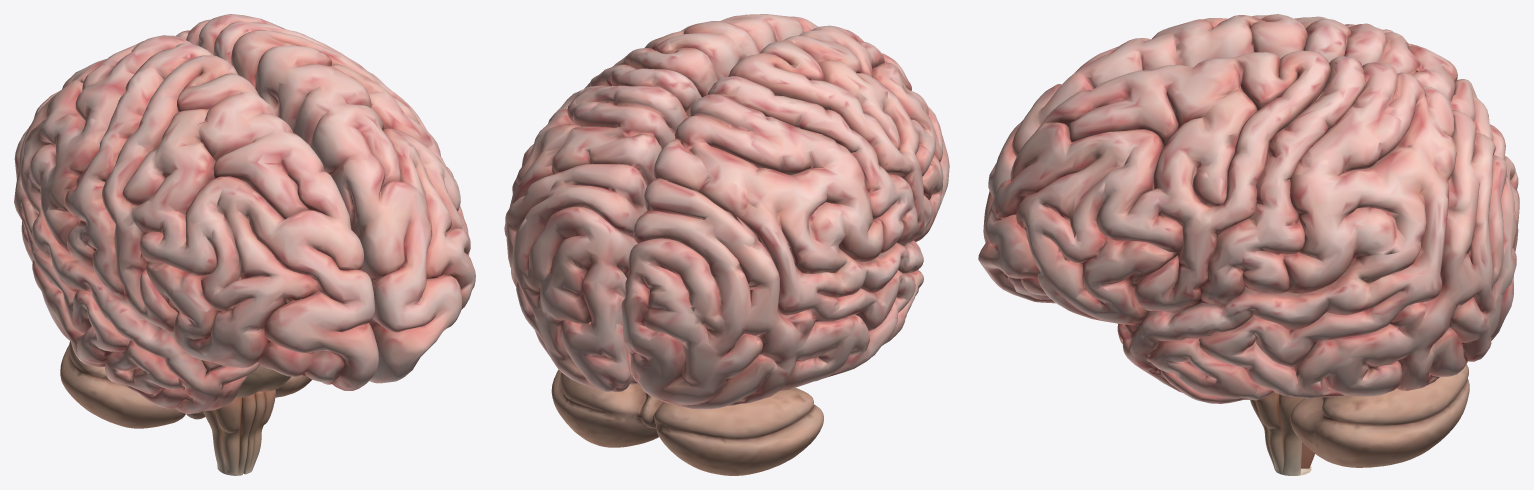
Rendered from brain_cancer.glb.
3 renders of one model, left to right at view 1: azimuth 30°, elevation 25°; view 2: azimuth 150°, elevation 25°; view 3: azimuth 270°, elevation 25°, orthographic. The views are drawn at different scales.
Visible parts, largest first — view 1: Frontal Lobe (Right) [S05229], Frontal Lobe (Left) [S05207], Parietal Lobe (Right) [S05218], Temporal Lobe (Right) [S05220], Precentral Gyrus (Right) [S05223], Postcentral Gyrus (Right) [S05221], Posterior Lobe of Cerebellum (Right) [S05189], Lateral Sulcus (Right) [S05227], Precentral Gyrus (Left) [S05208], Medulla Oblongata (Right) [S05164], Parietal Lobe (Left) [S05200], Postcentral Gyrus (Left) [S05201] (+5 smaller); view 2: Parietal Lobe (Right) [S05218], Occipital Lobe (Right) [S05226], Parietal Lobe (Left) [S05200], Occipital Lobe (Left) [S05209], Frontal Lobe (Right) [S05229], Posterior Lobe of Cerebellum (Right) [S05189], Temporal Lobe (Right) [S05220], Postcentral Gyrus (Right) [S05221], Posterior Lobe of Cerebellum (Left) [S05175], Frontal Lobe (Left) [S05207], Precentral Gyrus (Right) [S05223], Postcentral Gyrus (Left) [S05201] (+6 smaller); view 3: Frontal Lobe (Left) [S05207], Parietal Lobe (Left) [S05200], Temporal Lobe (Left) [S05204], Posterior Lobe of Cerebellum (Left) [S05175], Postcentral Gyrus (Left) [S05201], Frontal Lobe (Right) [S05229], Occipital Lobe (Left) [S05209], Precentral Gyrus (Left) [S05208], Parietal Lobe (Right) [S05218], Lateral Sulcus (Left) [S05203], Central Sulcus (Left) [S05199], Medulla Oblongata (Left) [S05168] (+4 smaller).
Part boxes in pixels (x1,y1,x2,y2): Frontal Lobe (Right) [S05229]: [122, 73, 378, 390]; Frontal Lobe (Left) [S05207]: [255, 42, 475, 383]; Parietal Lobe (Right) [S05218]: [14, 35, 200, 265]; Temporal Lobe (Right) [S05220]: [29, 224, 259, 413]; Precentral Gyrus (Right) [S05223]: [101, 55, 238, 315]; Postcentral Gyrus (Right) [S05221]: [65, 43, 213, 294]; Posterior Lobe of Cerebellum (Right) [S05189]: [60, 341, 185, 428]; Lateral Sulcus (Right) [S05227]: [33, 208, 213, 362]; Precentral Gyrus (Left) [S05208]: [231, 30, 427, 131]; Medulla Oblongata (Right) [S05164]: [203, 410, 240, 475]; Parietal Lobe (Left) [S05200]: [176, 14, 284, 55]; Postcentral Gyrus (Left) [S05201]: [213, 22, 385, 85]; Parietal Lobe (Right) [S05218]: [633, 94, 908, 364]; Occipital Lobe (Right) [S05226]: [621, 238, 796, 409]; Parietal Lobe (Left) [S05200]: [504, 85, 688, 286]; Occipital Lobe (Left) [S05209]: [514, 206, 637, 392]; Frontal Lobe (Right) [S05229]: [759, 25, 949, 241]; Posterior Lobe of Cerebellum (Right) [S05189]: [654, 388, 823, 475]; Temporal Lobe (Right) [S05220]: [779, 256, 923, 390]; Postcentral Gyrus (Right) [S05221]: [707, 76, 917, 239]; Posterior Lobe of Cerebellum (Left) [S05175]: [551, 369, 658, 447]; Frontal Lobe (Left) [S05207]: [644, 14, 818, 80]; Precentral Gyrus (Right) [S05223]: [728, 53, 924, 238]; Postcentral Gyrus (Left) [S05201]: [584, 64, 701, 116]; Frontal Lobe (Left) [S05207]: [978, 52, 1297, 325]; Parietal Lobe (Left) [S05200]: [1240, 62, 1495, 353]; Temporal Lobe (Left) [S05204]: [1117, 282, 1416, 403]; Posterior Lobe of Cerebellum (Left) [S05175]: [1290, 364, 1469, 467]; Postcentral Gyrus (Left) [S05201]: [1201, 56, 1365, 299]; Frontal Lobe (Right) [S05229]: [983, 15, 1265, 242]; Occipital Lobe (Left) [S05209]: [1396, 155, 1518, 390]; Precentral Gyrus (Left) [S05208]: [1169, 50, 1328, 309]; Parietal Lobe (Right) [S05218]: [1344, 23, 1493, 141]; Lateral Sulcus (Left) [S05203]: [1125, 264, 1365, 330]; Central Sulcus (Left) [S05199]: [1198, 59, 1336, 296]; Medulla Oblongata (Left) [S05168]: [1267, 394, 1314, 475].
Bounding box in the file's own units: 4.87 × 5.62 × 6.43.
